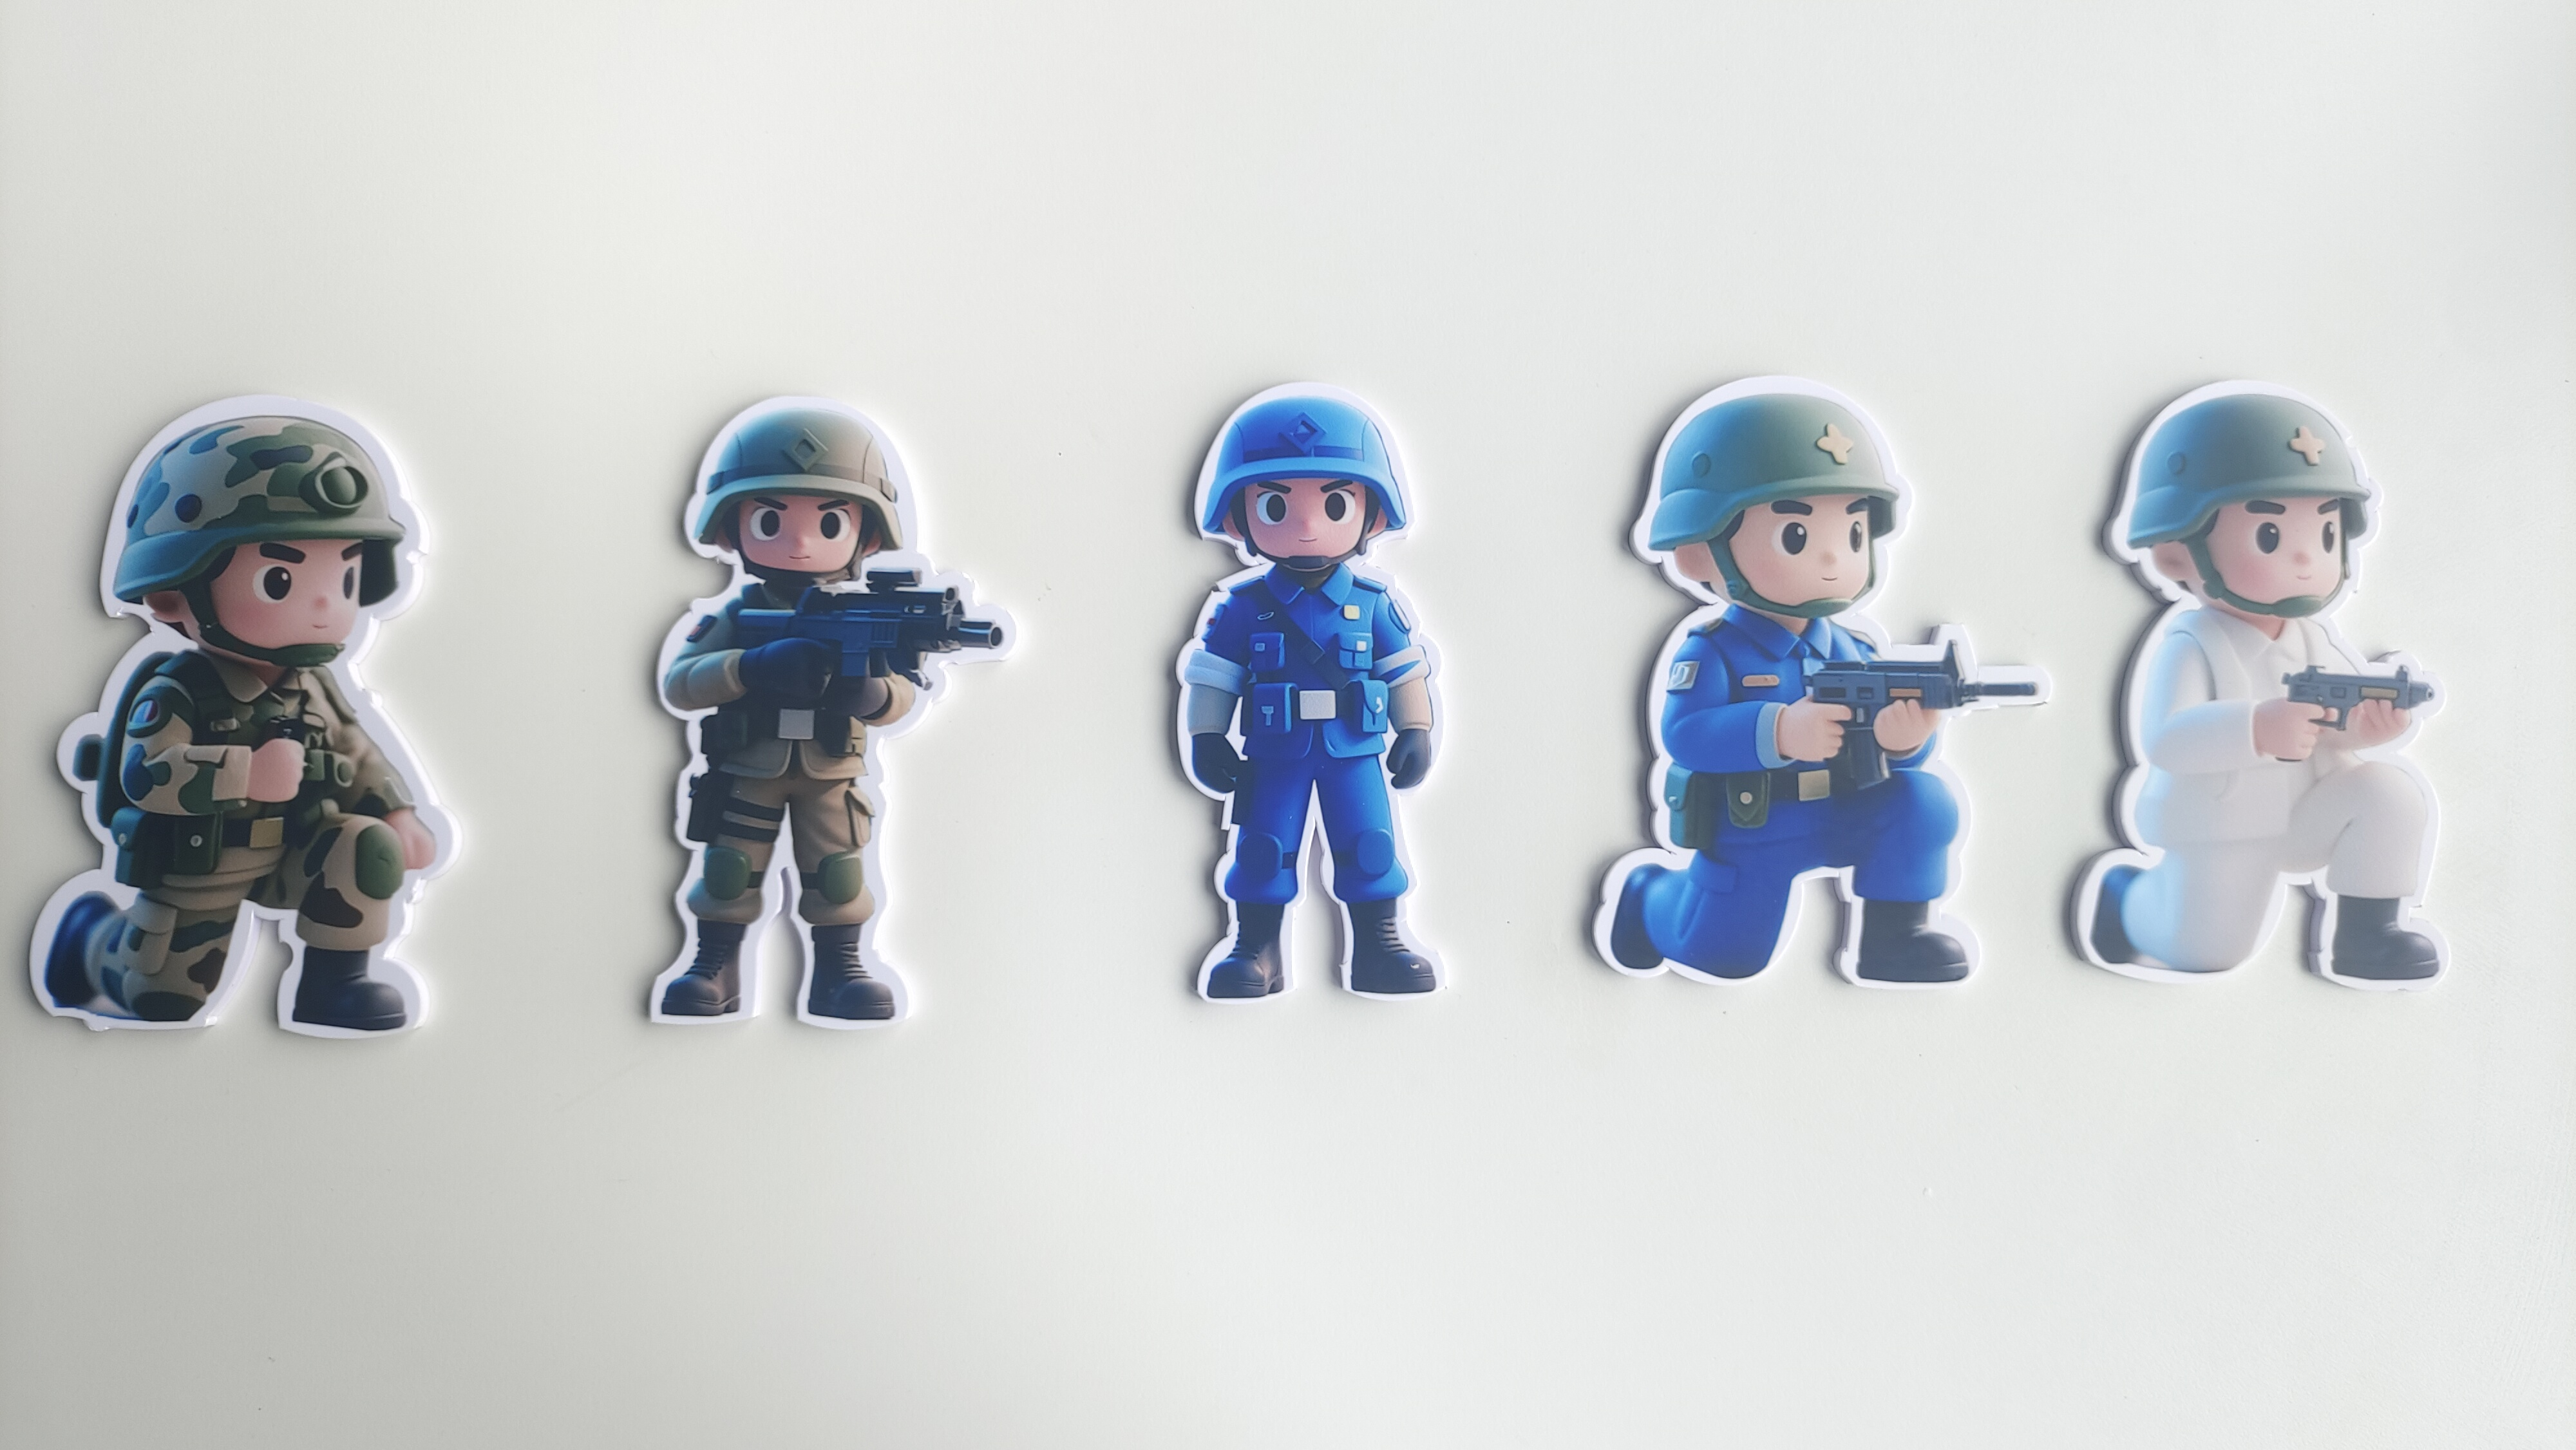enemy2: (1569, 612, 1983, 999), (1171, 566, 1472, 1006)
friend: (21, 667, 451, 1038), (637, 578, 931, 1042)
hostage: (2065, 615, 2456, 1003)
